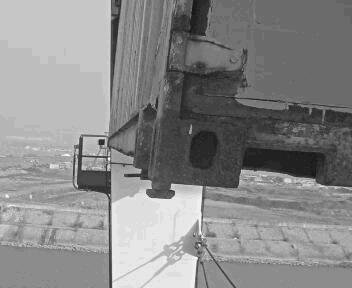twist_lock_1: (136, 176, 180, 207)
